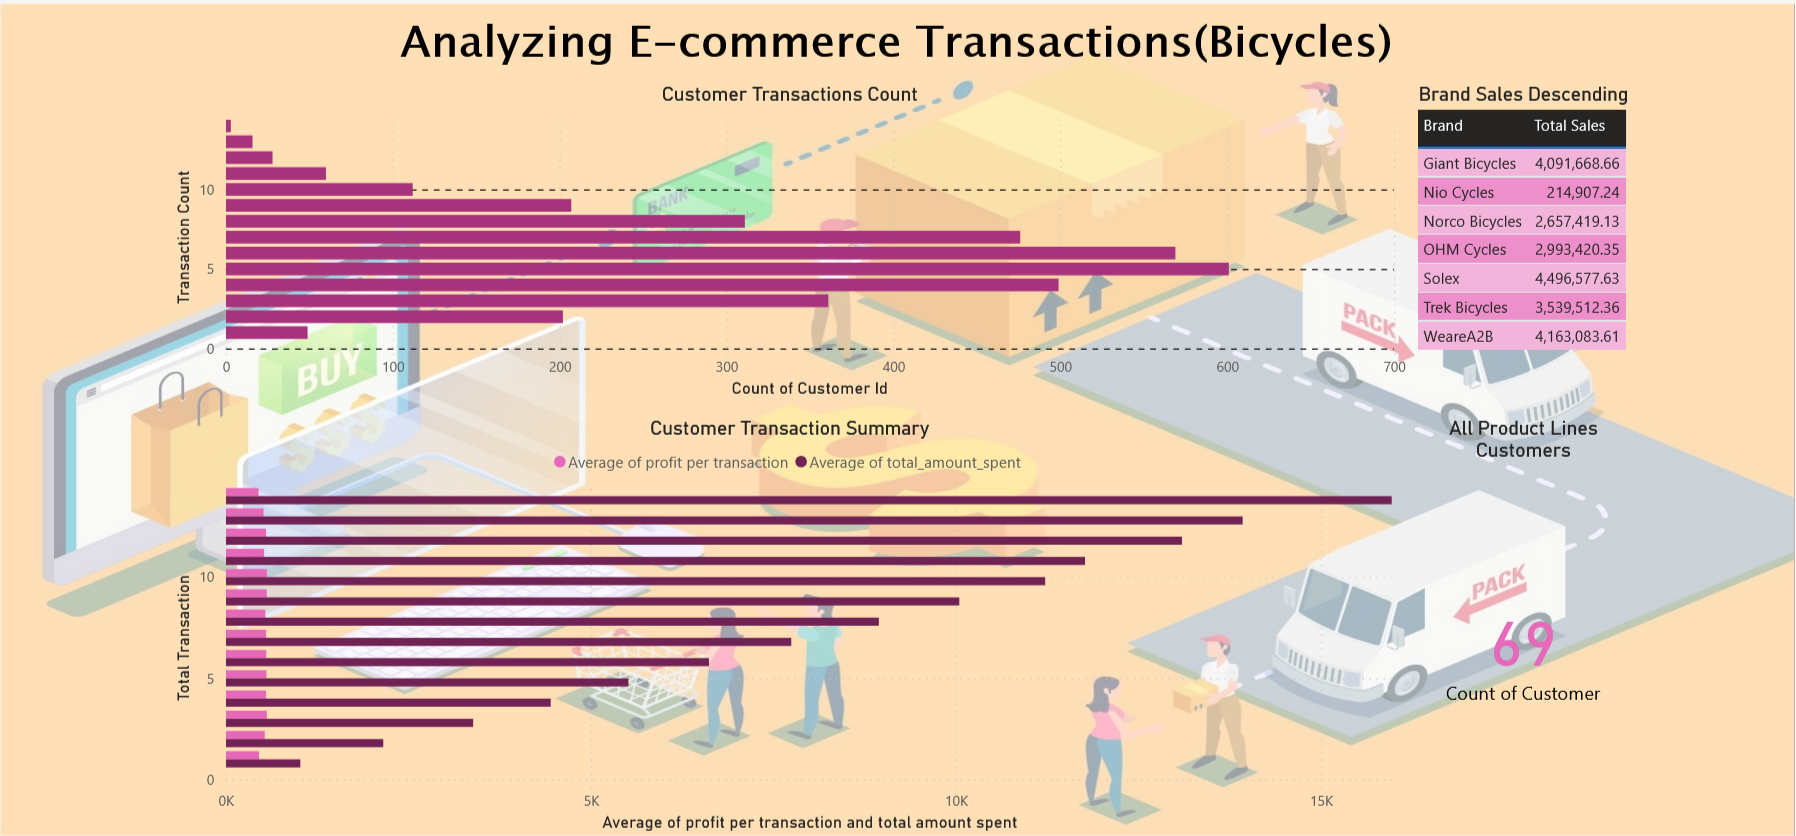

This screenshot's page, from the dashboard's own definition file:
{"tool":"powerbi","page":{"name":"Dashboard 2","canvas":[1280,720],"ordinal":1},"visuals":[{"type":"textbox","box":[4.1,0,1271,68.6],"z":0},{"type":"clusteredBarChart","title":"Customer Transactions Count","fields":{"Category":["8.transaction_count"],"Y":["Count(8.customer_id)"]},"box":[9.3,68.6,1076,277.7],"z":1},{"type":"tableEx","title":"Brand Sales Descending","fields":{"Values":["9.brand","9.total_sales"]},"box":[1085.3,68.6,195.2,277.7],"z":2},{"type":"clusteredBarChart","title":"Customer Transaction Summary","fields":{"Category":["11.total_transactions","11.customer_id"],"Y":["Avg(11.average_profit_per_transaction)","Avg(11.total_amount_spent)"]},"box":[9.3,356.7,1076,363.7],"z":3},{"type":"card","title":"All Product Lines Customers","fields":{"Values":["CountNonNull(13.customer_id)"]},"box":[1085,357,195,363],"z":4}]}

Visuals, with their boxes on the page's 1280x720 design canvas (x1, y1, x2, y2). These are canvas units, not pixel positions in the 1796x836 screenshot, which may show the page scaled, cropped or inside an application window:
textbox: {"left": 4, "top": 0, "right": 1275, "bottom": 69}
"Customer Transactions Count" clusteredBarChart: {"left": 9, "top": 69, "right": 1085, "bottom": 346}
"Brand Sales Descending" tableEx: {"left": 1085, "top": 69, "right": 1280, "bottom": 346}
"Customer Transaction Summary" clusteredBarChart: {"left": 9, "top": 357, "right": 1085, "bottom": 720}
"All Product Lines Customers" card: {"left": 1085, "top": 357, "right": 1280, "bottom": 720}
